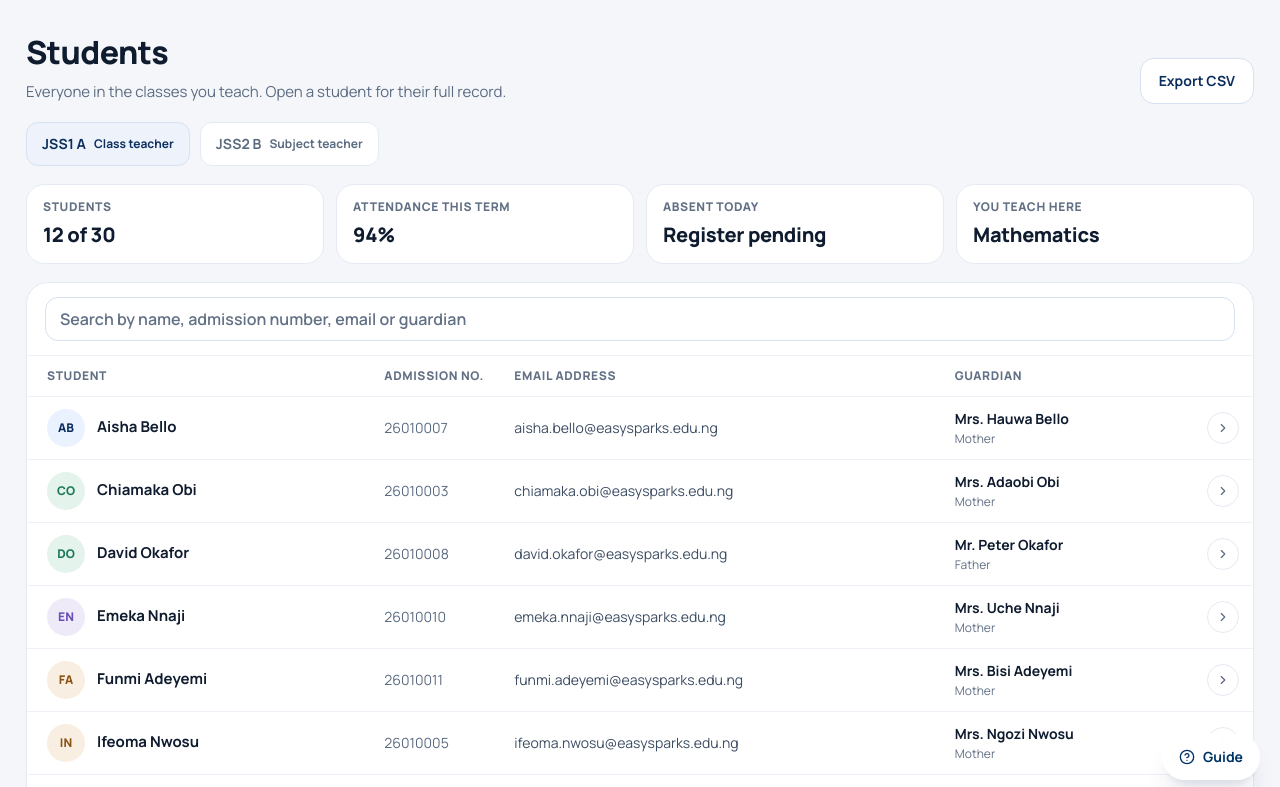
Test case: AppGuide › stays closed when 'Show app guide tips' is off, but the Guide button still opens it
The image size is (1280, 787).
Check: the text "12 of 30" is shown, box [43, 220, 115, 248]
Check: the dialog "One tab per class" is not shown
Click the button "Guide": (1211, 757) [1162, 734, 1260, 780]
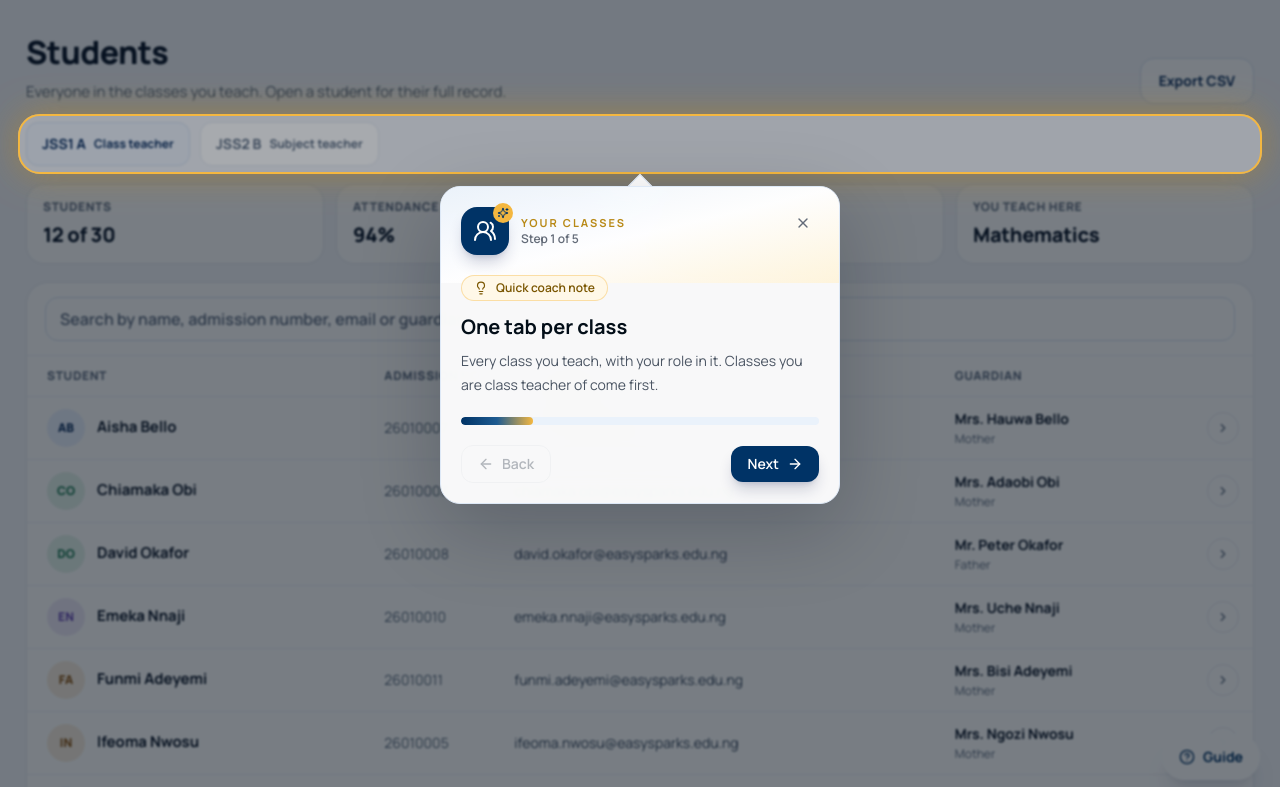
Check: the dialog "One tab per class" is shown, box [440, 186, 840, 504]
